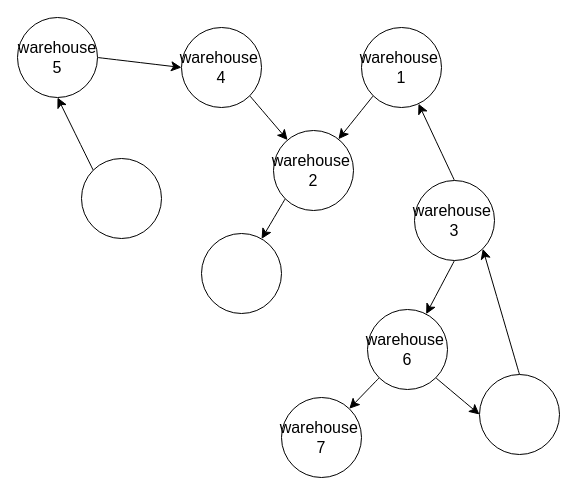
Some shapes in this 578 by 495 pixel diagram are drawn without their labels. The shapes that lost their labels are listed below. From the top down, each one's centre as x and y in pixels, then its label:
point 121,198: warehouse 10
point 241,273: warehouse 9
point 519,414: warehouse 8
